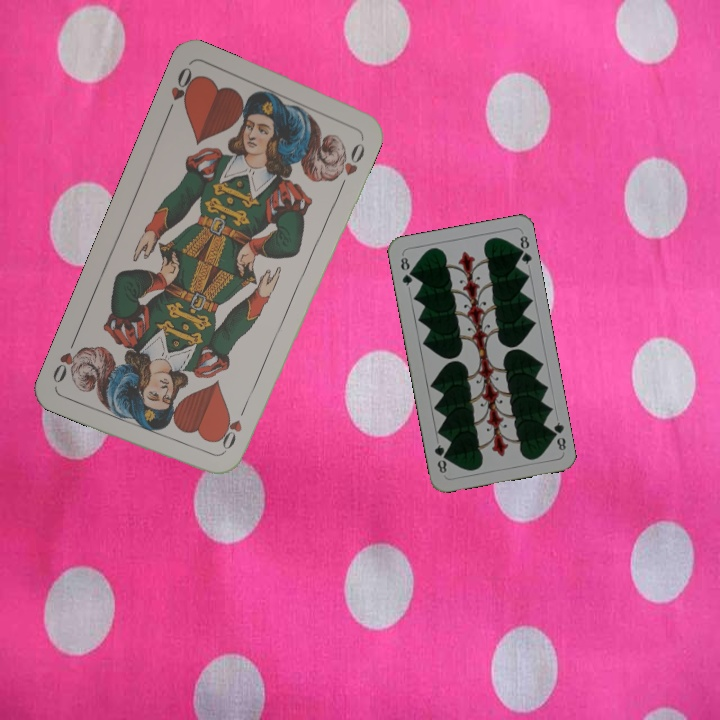G8: (546, 418, 569, 453), (396, 251, 415, 288)
HO: (162, 63, 200, 118), (218, 400, 250, 456)
